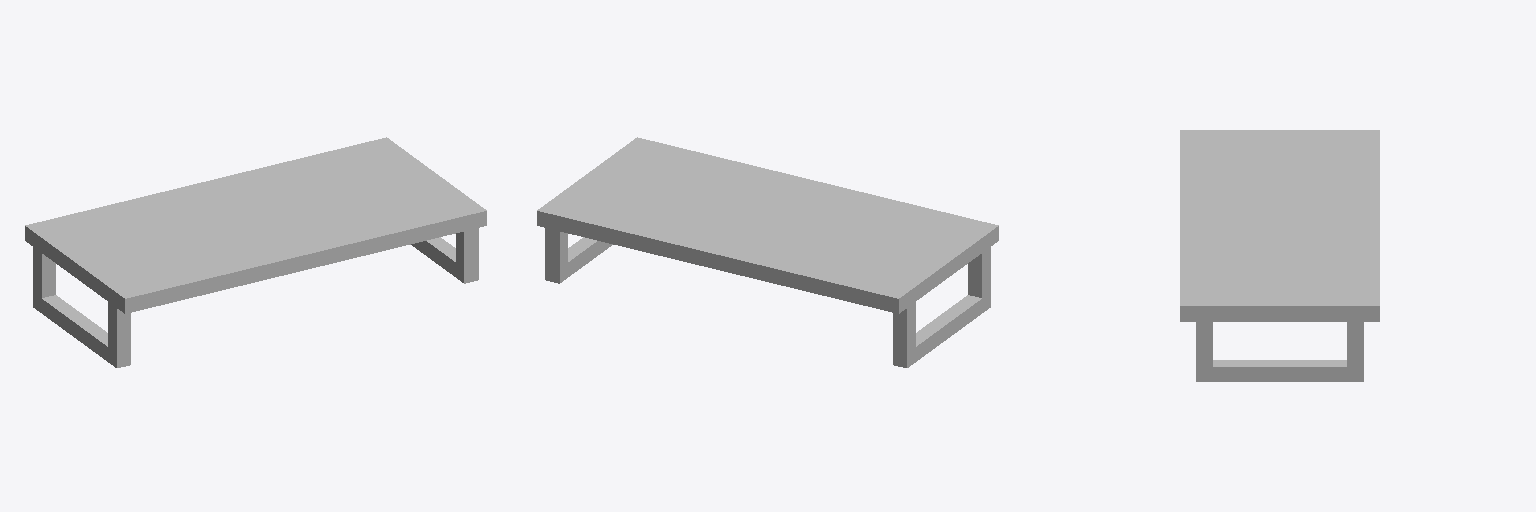
Rendered from 3D Voxel Office Pack-48.obj.
3 views of the same model, side by side, from view 1: azimuth 30°, elevation 25°; view 2: azimuth 150°, elevation 25°; view 3: azimuth 270°, elevation 25° (orthographic).
Parts seen in each view (by area): view 1: object 1; view 2: object 1; view 3: object 1.
Boxes of the visible parts, x1=… form: object 1: x1=25, y1=137, x2=486, y2=367; object 1: x1=537, y1=137, x2=998, y2=367; object 1: x1=1180, y1=130, x2=1379, y2=381.
Bounding box in the file's own units: 2.5 × 0.5 × 1.2.